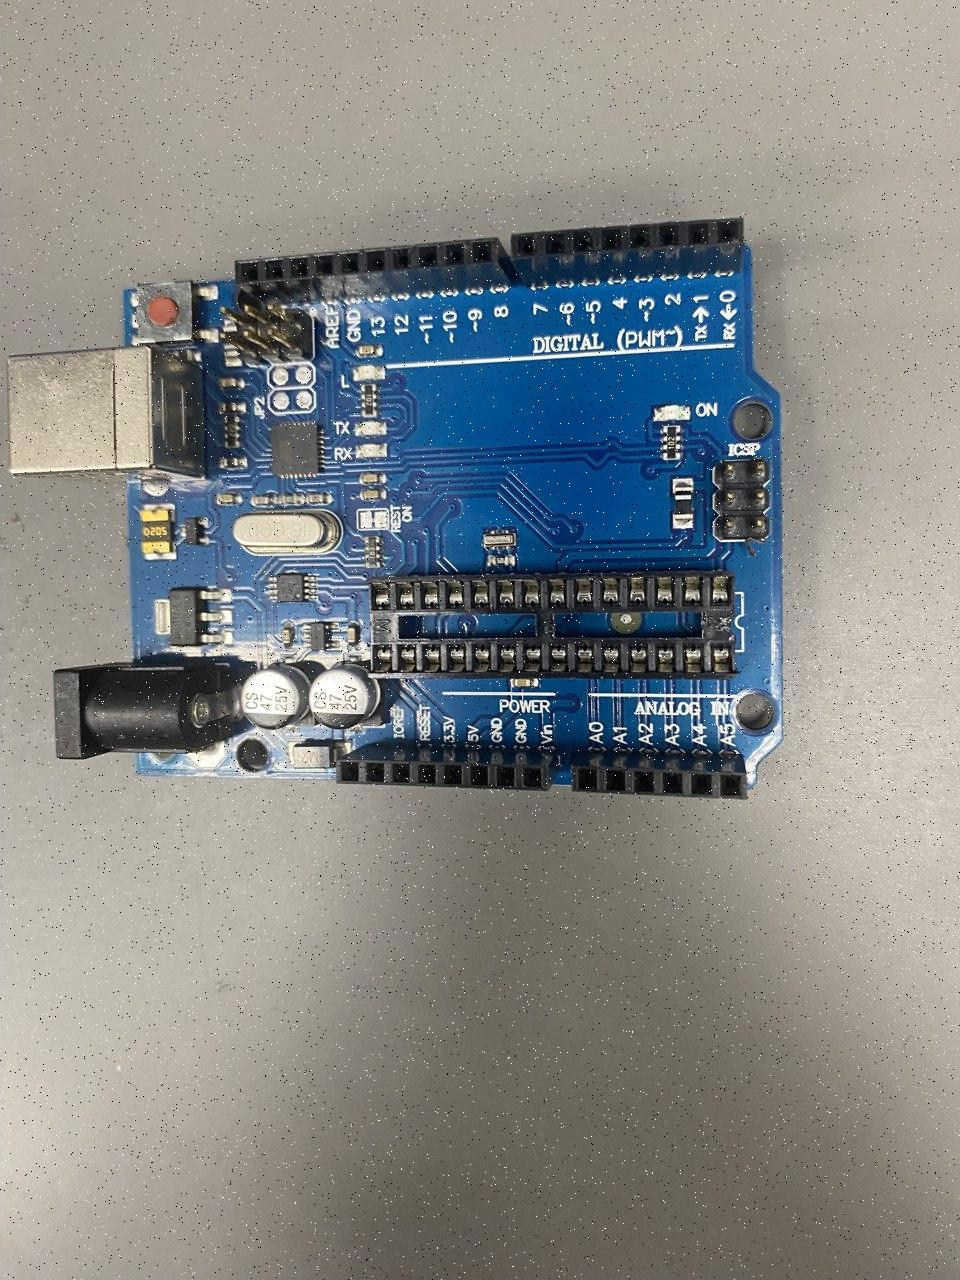Arduino board: (6, 218, 783, 800)
USB: (6, 346, 205, 483)
capacitor: (308, 660, 384, 730), (242, 664, 316, 730)
pins: (235, 237, 517, 305), (510, 218, 744, 288), (336, 740, 561, 792), (572, 749, 747, 799)
resistor: (663, 425, 682, 461), (360, 384, 377, 418), (223, 415, 240, 449), (363, 536, 380, 567)
